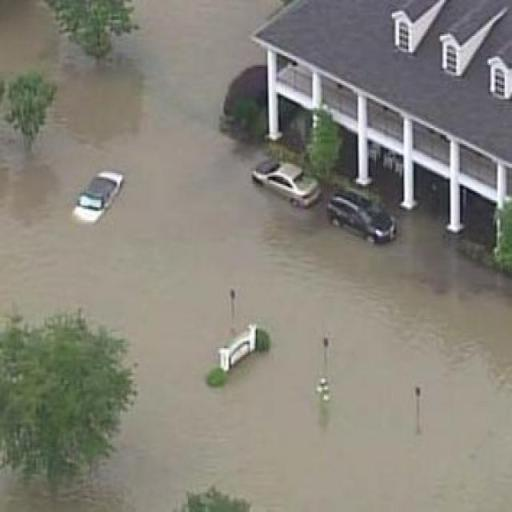flood: (0, 0, 512, 512)
house: (255, 0, 512, 222)
